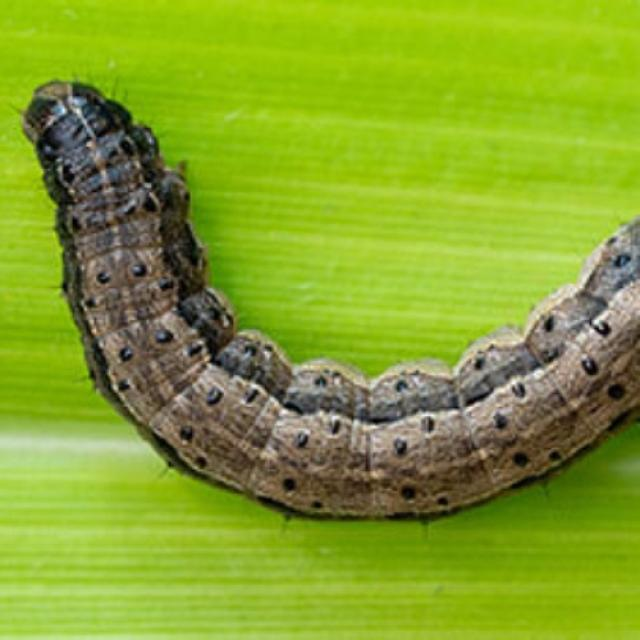armyworm: (13, 73, 639, 523)
